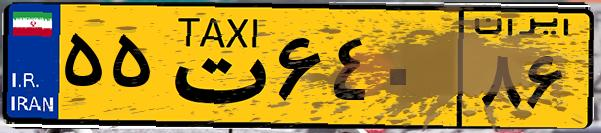0: (385, 28, 445, 110)
4: (330, 28, 385, 110)
5: (57, 26, 110, 100), (110, 28, 158, 98)
6: (270, 28, 330, 110), (525, 38, 570, 115)
8: (475, 38, 525, 113)
ت: (158, 12, 270, 120)
